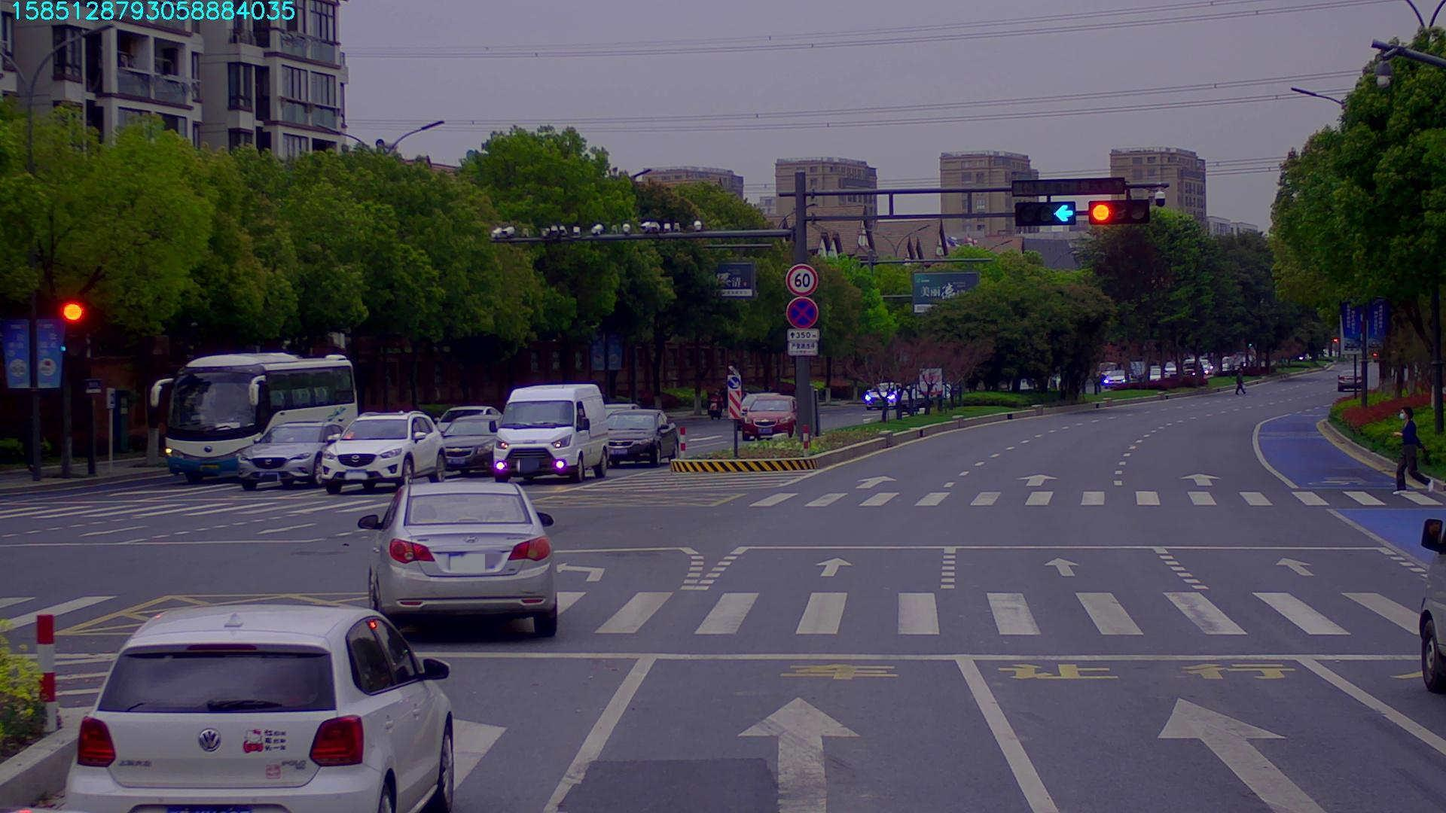green: (1017, 200, 1072, 228)
red: (1086, 199, 1159, 224)
